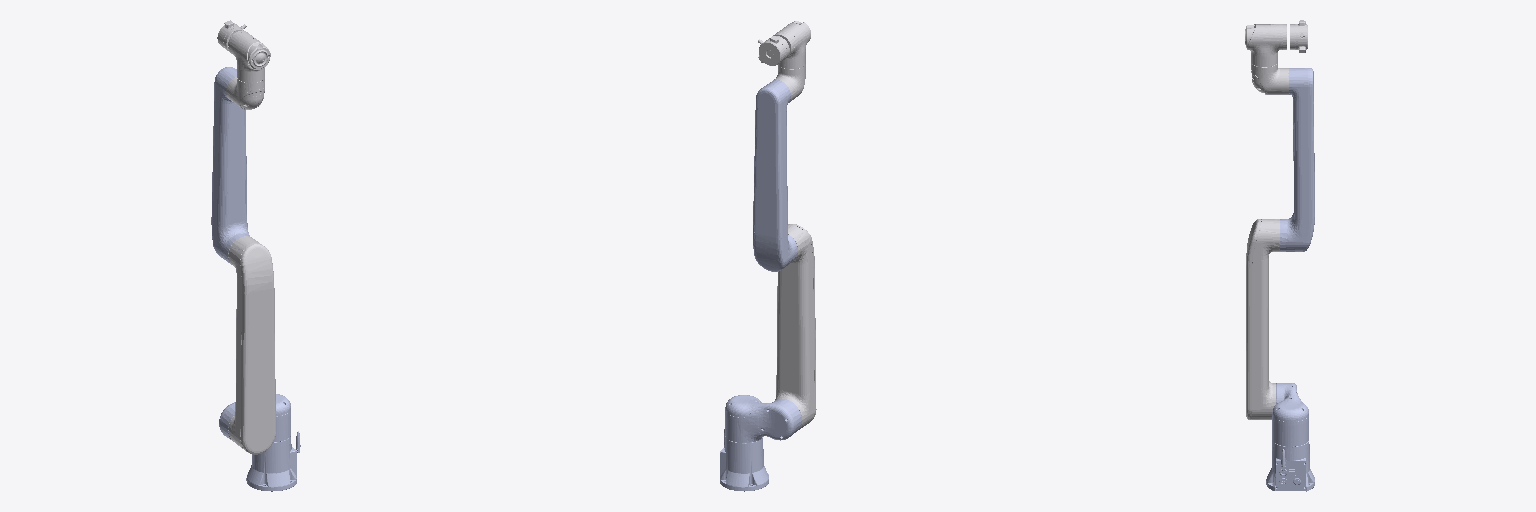
URDF robot description (ECO63-6FB-URDF):
<?xml version="1.0" encoding="utf-8"?>
<!-- This URDF was automatically created by SolidWorks to URDF Exporter! Originally created by [author] ([email redacted]) 
     Commit Version: 1.6.0-1-g15f4949  Build Version: 1.6.7594.29634
     For more information, please see http://wiki.ros.org/sw_urdf_exporter -->
<robot
  name="ECO63-6FB-URDF">
  <link
    name="base_link">
    <inertial>
      <origin
        xyz="-0.0820059583101759 -0.0457349740672993 0.531847301147707"
        rpy="0 0 0" />
      <mass
        value="9.06647326360739" />
      <inertia
        ixx="0.887487679546856"
        ixy="-0.00167561062920602"
        ixz="0.0135991138220728"
        iyy="0.878107798495511"
        iyz="-0.0370944336983109"
        izz="0.0224497244826688" />
    </inertial>
    <visual>
      <origin
        xyz="0 0 0"
        rpy="0 0 0" />
      <geometry>
        <mesh
          filename="package://rm_description/meshes/ECO63/base_link.STL" />
      </geometry>
      <material
        name="">
        <color
          rgba="0.792156862745098 0.819607843137255 0.933333333333333 1" />
      </material>
    </visual>
    <collision>
      <origin
        xyz="0 0 0"
        rpy="0 0 0" />
      <geometry>
        <mesh
          filename="package://rm_description/meshes/ECO63/base_link.STL" />
      </geometry>
    </collision>
  </link>
  <link
    name="Link1">
    <inertial>
      <origin
        xyz="-0.0309493055609114 -0.0012728567226139 -0.00524336672353312"
        rpy="0 0 0" />
      <mass
        value="0.656374618338142" />
      <inertia
        ixx="0.000538922068295209"
        ixy="-6.49558484347273E-05"
        ixz="0.000104084843141859"
        iyy="0.00162201405585815"
        iyz="6.13990176963193E-06"
        izz="0.00151559483136641" />
    </inertial>
    <visual>
      <origin
        xyz="0 0 0"
        rpy="0 0 0" />
      <geometry>
        <mesh
          filename="package://rm_description/meshes/ECO63/Link1.STL" />
      </geometry>
      <material
        name="">
        <color
          rgba="0.792156862745098 0.819607843137255 0.933333333333333 1" />
      </material>
    </visual>
    <collision>
      <origin
        xyz="0 0 0"
        rpy="0 0 0" />
      <geometry>
        <mesh
          filename="package://rm_description/meshes/ECO63/Link1.STL" />
      </geometry>
    </collision>
  </link>
  <joint
    name="joint1"
    type="revolute">
    <origin
      xyz="0 0 0.1625"
      rpy="0 0 0" />
    <parent
      link="base_link" />
    <child
      link="Link1" />
    <axis
      xyz="0 0 -1" />
    <limit
      lower="-3.105"
      upper="3.105"
      effort="60"
      velocity="3.14" />
  </joint>
  <link
    name="Link2">
    <inertial>
      <origin
        xyz="0.194682247033962 -1.86346038127949E-07 0.0708742731440949"
        rpy="0 0 0" />
      <mass
        value="5.26262523683375" />
      <inertia
        ixx="0.00404170032131906"
        ixy="-5.65174393111012E-07"
        ixz="0.00121807022294722"
        iyy="0.109727764384232"
        iyz="-2.72124756903713E-09"
        izz="0.110681578185881" />
    </inertial>
    <visual>
      <origin
        xyz="0 0 0"
        rpy="0 0 0" />
      <geometry>
        <mesh
          filename="package://rm_description/meshes/ECO63/Link2.STL" />
      </geometry>
      <material
        name="">
        <color
          rgba="0.866666666666667 0.866666666666667 0.890196078431372 1" />
      </material>
    </visual>
    <collision>
      <origin
        xyz="0 0 0"
        rpy="0 0 0" />
      <geometry>
        <mesh
          filename="package://rm_description/meshes/ECO63/Link2.STL" />
      </geometry>
    </collision>
  </link>
  <joint
    name="joint2"
    type="revolute">
    <origin
      xyz="-0.086 0 0"
      rpy="1.5708 -1.5708 0" />
    <parent
      link="Link1" />
    <child
      link="Link2" />
    <axis
      xyz="0 0 -1" />
    <limit
      lower="-3.105"
      upper="2.355"
      effort="60"
      velocity="3.14" />
  </joint>
  <link
    name="Link3">
    <inertial>
      <origin
        xyz="0.179310475039839 1.86928912626616E-09 0.0308638630867258"
        rpy="0 0 0" />
      <mass
        value="1.3509329667983" />
      <inertia
        ixx="0.000796925531981305"
        ixy="-2.8974044698095E-08"
        ixz="-0.000607432295339128"
        iyy="0.0219803140031169"
        iyz="1.84171394643826E-08"
        izz="0.022157190260175" />
    </inertial>
    <visual>
      <origin
        xyz="0 0 0"
        rpy="0 0 0" />
      <geometry>
        <mesh
          filename="package://rm_description/meshes/ECO63/Link3.STL" />
      </geometry>
      <material
        name="">
        <color
          rgba="0.792156862745098 0.819607843137255 0.933333333333333 1" />
      </material>
    </visual>
    <collision>
      <origin
        xyz="0 0 0"
        rpy="0 0 0" />
      <geometry>
        <mesh
          filename="package://rm_description/meshes/ECO63/Link3.STL" />
      </geometry>
    </collision>
  </link>
  <joint
    name="joint3"
    type="revolute">
    <origin
      xyz="0.41 0 0"
      rpy="3.1416 -0.0087266 0" />
    <parent
      link="Link2" />
    <child
      link="Link3" />
    <axis
      xyz="-0.0087265 0 0.99996" />
    <limit
      lower="-2.93"
      upper="2.756"
      effort="30"
      velocity="3.14" />
  </joint>
  <link
    name="Link4">
    <inertial>
      <origin
        xyz="1.18737948139047E-06 -0.00995387687025806 0.0129236518197595"
        rpy="0 0 0" />
      <mass
        value="0.733001235394853" />
      <inertia
        ixx="0.000641256799113762"
        ixy="7.16323347889097E-09"
        ixz="-6.76890724050902E-09"
        iyy="0.000512473473605366"
        iyz="-0.000109077537111131"
        izz="0.000460316607732565" />
    </inertial>
    <visual>
      <origin
        xyz="0 0 0"
        rpy="0 0 0" />
      <geometry>
        <mesh
          filename="package://rm_description/meshes/ECO63/Link4.STL" />
      </geometry>
      <material
        name="">
        <color
          rgba="0.866666666666667 0.866666666666667 0.890196078431372 1" />
      </material>
    </visual>
    <collision>
      <origin
        xyz="0 0 0"
        rpy="0 0 0" />
      <geometry>
        <mesh
          filename="package://rm_description/meshes/ECO63/Link4.STL" />
      </geometry>
    </collision>
  </link>
  <joint
    name="joint4"
    type="revolute">
    <origin
      xyz="0.38049 0 -0.054981"
      rpy="-0.0087266 0 1.5708" />
    <parent
      link="Link3" />
    <child
      link="Link4" />
    <axis
      xyz="0 0 1" />
    <limit
      lower="-3.105"
      upper="3.105"
      effort="10"
      velocity="3.14" />
  </joint>
  <link
    name="Link5">
    <inertial>
      <origin
        xyz="1.10373835339461E-06 0.00366306859871775 -0.0136222948606266"
        rpy="0 0 0" />
      <mass
        value="0.911747774463918" />
      <inertia
        ixx="0.000797250089831515"
        ixy="-3.07830662249088E-08"
        ixz="-1.8694508380019E-09"
        iyy="0.000572176795709541"
        iyz="-0.000145598908387624"
        izz="0.000625883738000052" />
    </inertial>
    <visual>
      <origin
        xyz="0 0 0"
        rpy="0 0 0" />
      <geometry>
        <mesh
          filename="package://rm_description/meshes/ECO63/Link5.STL" />
      </geometry>
      <material
        name="">
        <color
          rgba="0.866666666666667 0.866666666666667 0.890196078431372 1" />
      </material>
    </visual>
    <collision>
      <origin
        xyz="0 0 0"
        rpy="0 0 0" />
      <geometry>
        <mesh
          filename="package://rm_description/meshes/ECO63/Link5.STL" />
      </geometry>
    </collision>
  </link>
  <joint
    name="joint5"
    type="revolute">
    <origin
      xyz="0 -0.11 -0.0006"
      rpy="1.5708 0 0" />
    <parent
      link="Link4" />
    <child
      link="Link5" />
    <axis
      xyz="0 0 -1" />
    <limit
      lower="-3.105"
      upper="3.105"
      effort="10"
      velocity="3.14" />
  </joint>
  <link
    name="Link6">
    <inertial>
      <origin
        xyz="0.000502798417250983 1.40039216558474E-05 -0.0166588848846901"
        rpy="0 0 0" />
      <mass
        value="0.151764173288042" />
      <inertia
        ixx="5.92991887697562E-05"
        ixy="-3.55096210035366E-08"
        ixz="9.38773298614362E-07"
        iyy="6.14480379976492E-05"
        iyz="-2.92670703712805E-08"
        izz="7.77928386927577E-05" />
    </inertial>
    <visual>
      <origin
        xyz="0 0 0"
        rpy="0 0 0" />
      <geometry>
        <mesh
          filename="package://rm_description/meshes/ECO63/Link6.STL" />
      </geometry>
      <material
        name="">
        <color
          rgba="0.866666666666667 0.866666666666667 0.890196078431372 1" />
      </material>
    </visual>
    <collision>
      <origin
        xyz="0 0 0"
        rpy="0 0 0" />
      <geometry>
        <mesh
          filename="package://rm_description/meshes/ECO63/Link6.STL" />
      </geometry>
    </collision>
  </link>
  <joint
    name="joint6"
    type="revolute">
    <origin
      xyz="0 0.0967 0"
      rpy="-1.5708 0 0" />
    <parent
      link="Link5" />
    <child
      link="Link6" />
    <axis
      xyz="0 0 -1" />
    <limit
      lower="-6.28"
      upper="6.28"
      effort="10"
      velocity="3.14" />
  </joint>
</robot>

--- Render facts (derived) ---
3 views of the same robot in one strip: view 1: azimuth 30°, elevation 25°; view 2: azimuth 150°, elevation 25°; view 3: azimuth 270°, elevation 25° (orthographic).
Robot: ECO63-6FB-URDF — 7 links, 6 joints (6 revolute); root link base_link; default pose: all joints at 0.
Links seen in each view (by area): view 1: Link2, Link3, base_link, Link5, Link1, Link4; view 2: Link3, Link2, Link1, base_link, Link5, Link6, Link4; view 3: Link2, Link3, Link1, base_link, Link5, Link4.
Link boxes in pixels (left/top/right/bottom): Link2: left=228, top=236, right=275, bottom=454; Link3: left=211, top=67, right=251, bottom=264; base_link: left=246, top=431, right=300, bottom=491; Link5: left=228, top=31, right=270, bottom=82; Link1: left=219, top=394, right=290, bottom=441; Link4: left=226, top=77, right=264, bottom=109; Link3: left=753, top=80, right=797, bottom=271; Link2: left=775, top=224, right=816, bottom=429; Link1: left=725, top=395, right=801, bottom=442; base_link: left=720, top=429, right=768, bottom=491; Link5: left=773, top=21, right=810, bottom=68; Link6: left=758, top=36, right=789, bottom=65; Link4: left=773, top=64, right=805, bottom=102; Link2: left=1246, top=219, right=1279, bottom=419; Link3: left=1280, top=68, right=1314, bottom=251; Link1: left=1272, top=383, right=1308, bottom=446; base_link: left=1266, top=440, right=1314, bottom=491; Link5: left=1245, top=24, right=1286, bottom=66; Link4: left=1251, top=63, right=1288, bottom=94.
Bounding box of the posed robot: 0.1889 × 0.1584 × 1.1 m (x, y, z).
Meshes: 7 distinct files referenced, 7 mesh visuals loaded (7 binary STL).